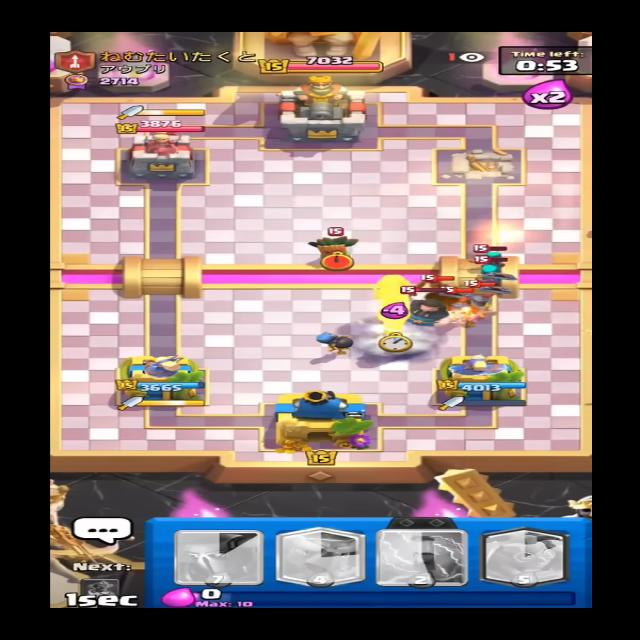Dartgoblin: (310, 227, 358, 260)
Guards: (470, 291, 500, 315)
Rascalboy: (387, 288, 465, 327)
Rascalgirl: (476, 258, 506, 284), (481, 244, 506, 267)
